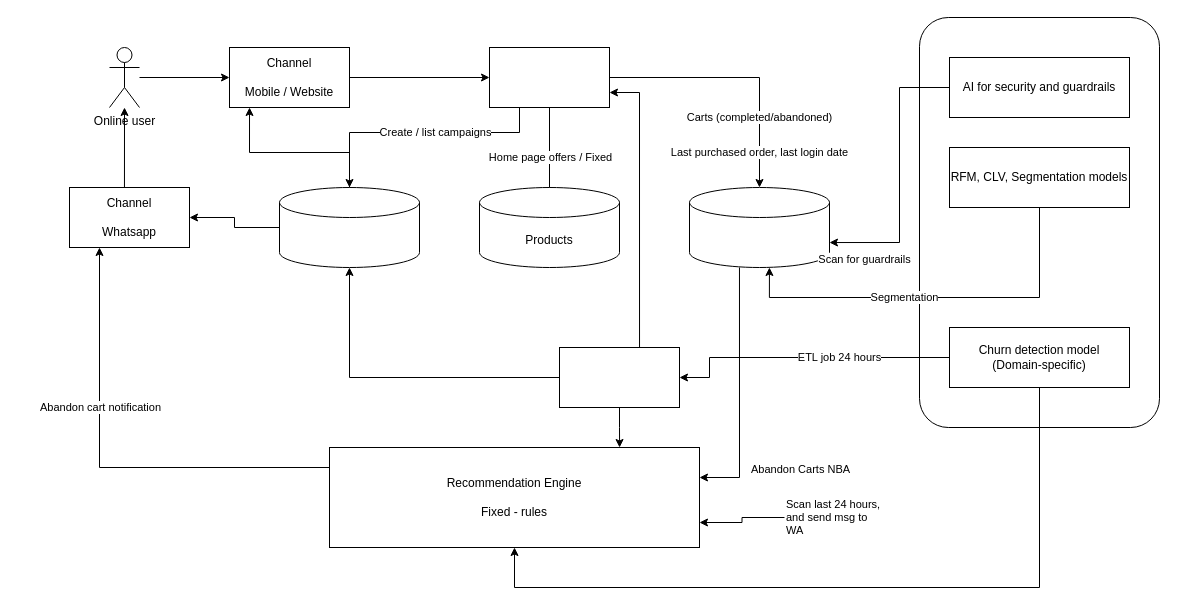
Some shapes in this 1177 by 613 pixel diagram are drawn without their labels. The shapes that lost their labels are listed below. From the top down, each one's centre as x and y in pixels, then its label:
(x=549, y=77): E-commerce Service
(x=349, y=227): Campaigns
(x=759, y=227): Customer interactions and profiles
(x=619, y=377): Segments
